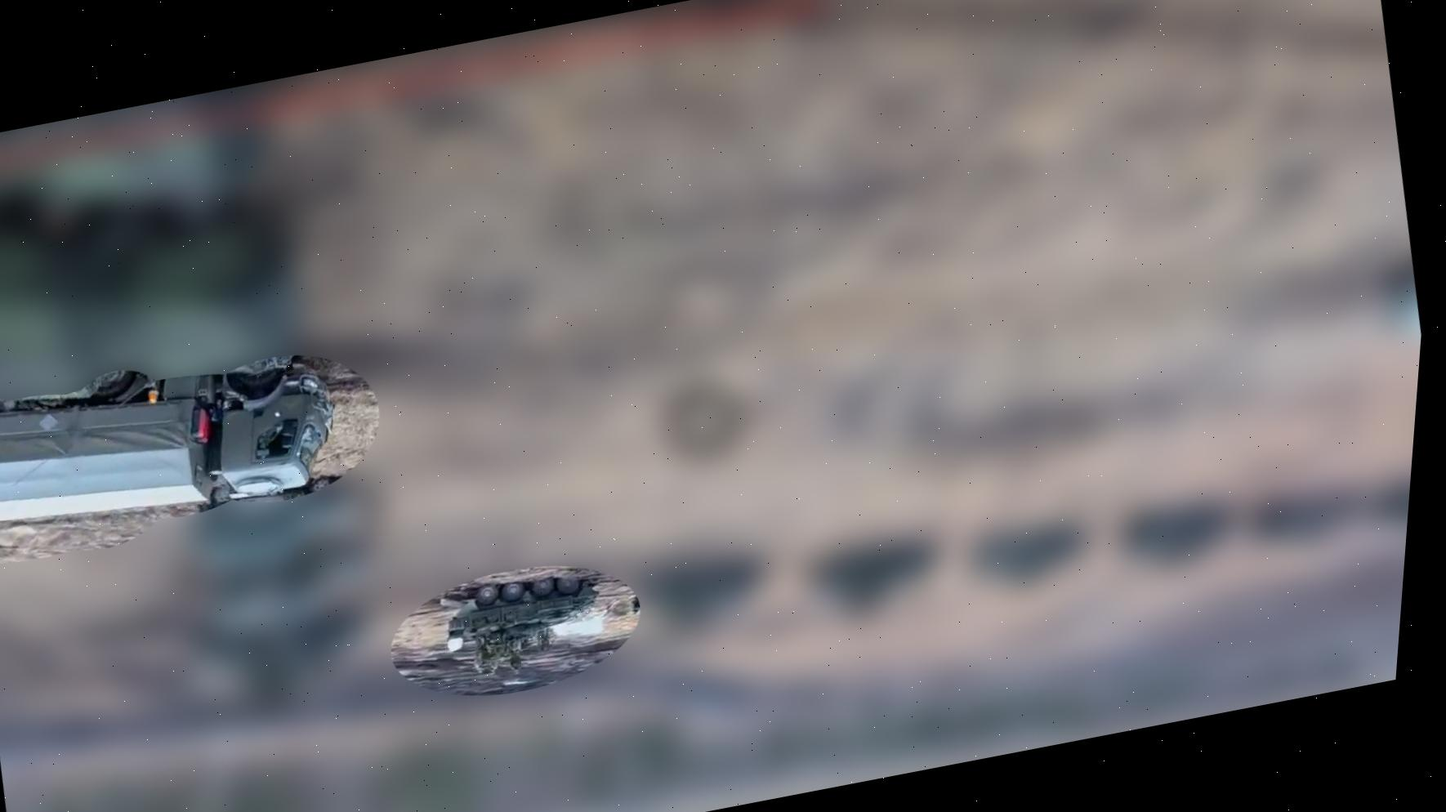armored_car: (430, 557, 614, 675)
truck: (0, 332, 365, 547)
